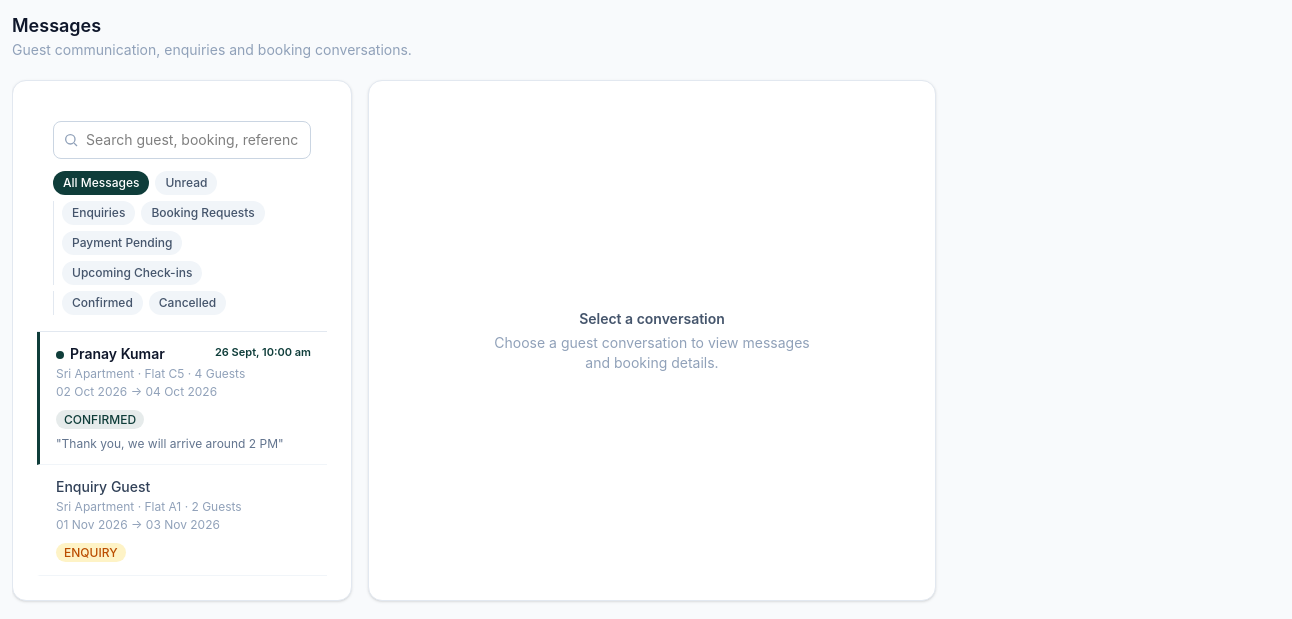
Test: MessagesPage › shows conversation-derived details (not invented booking data) for an enquiry with no linked booking
Click the text "Enquiry Guest" at (103, 487), box 56,477 -> 150,497
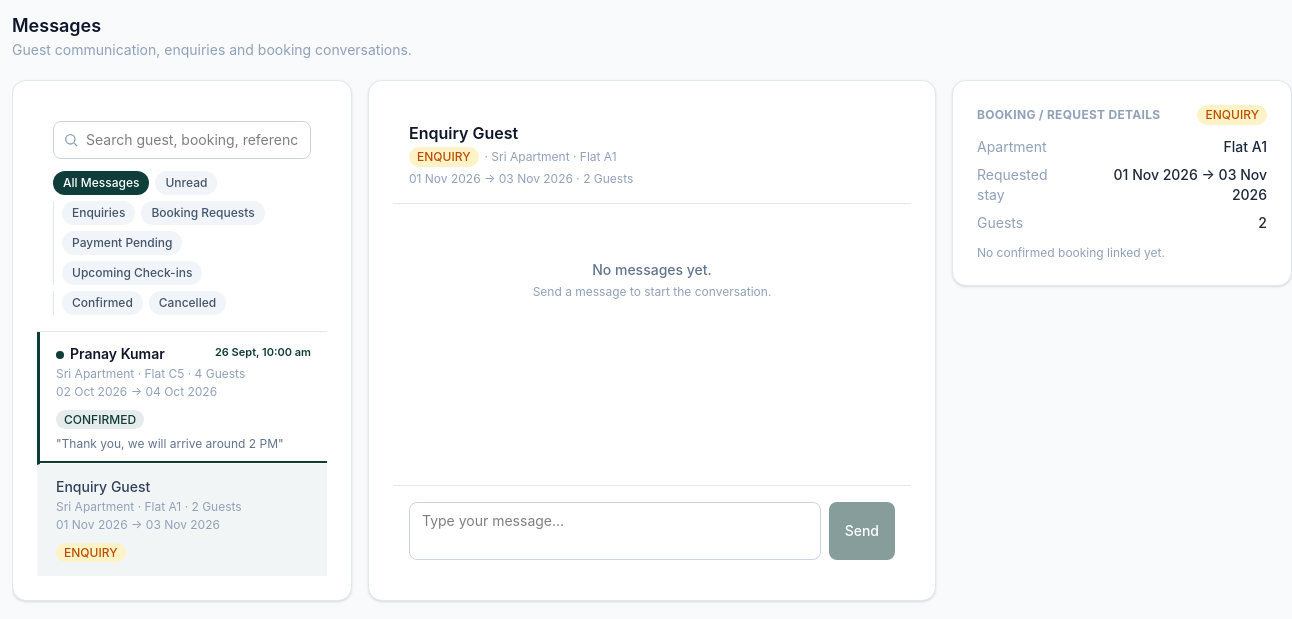
Expected: the 2nd text "01 Nov 2026 → 03 Nov 2026" is shown, 56,517 -> 220,532
Expected: the text "No confirmed booking linked yet." is shown, 977,245 -> 1165,260
Expected: the text "Flat A1" is shown, 1224,137 -> 1267,157
